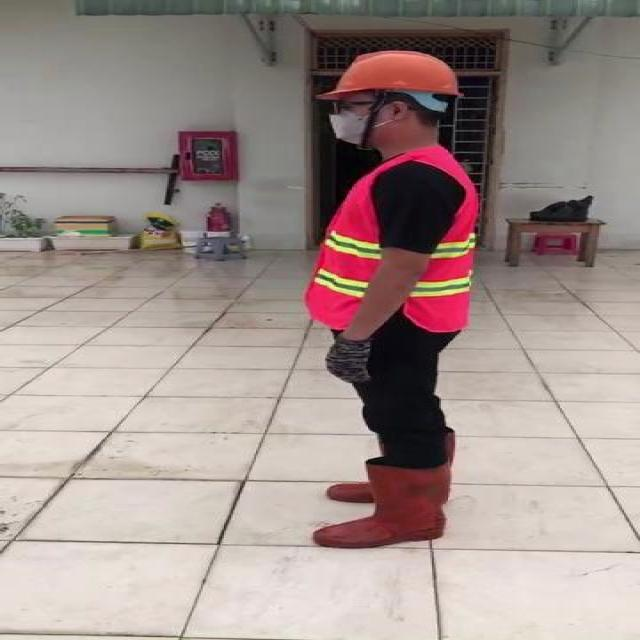boots: (311, 458, 450, 547)
face_mask: (322, 94, 380, 146)
hand_glove: (324, 334, 372, 386)
head_helmet: (322, 48, 460, 98)
person: (278, 42, 486, 560)
vest: (306, 152, 400, 329), (400, 147, 476, 336)
